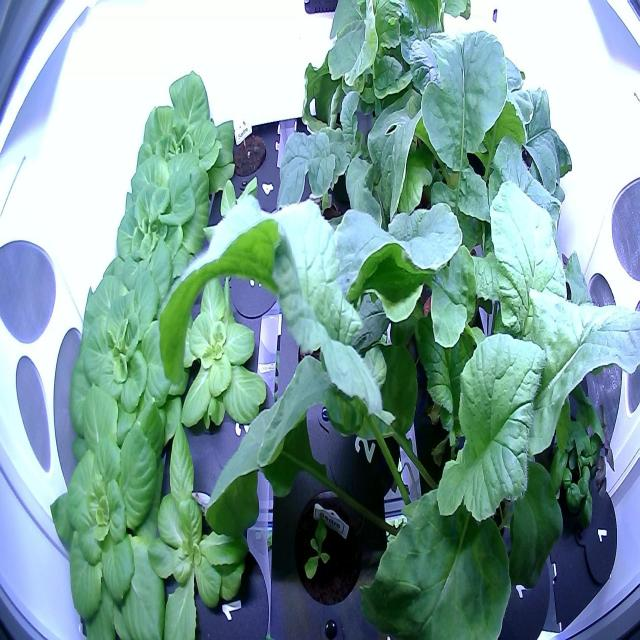pod: (220, 120, 271, 182)
young: (46, 378, 179, 640), (141, 413, 273, 639), (65, 231, 183, 447), (157, 259, 281, 442), (123, 65, 240, 205), (102, 140, 213, 266), (286, 476, 373, 612), (195, 167, 282, 287)
